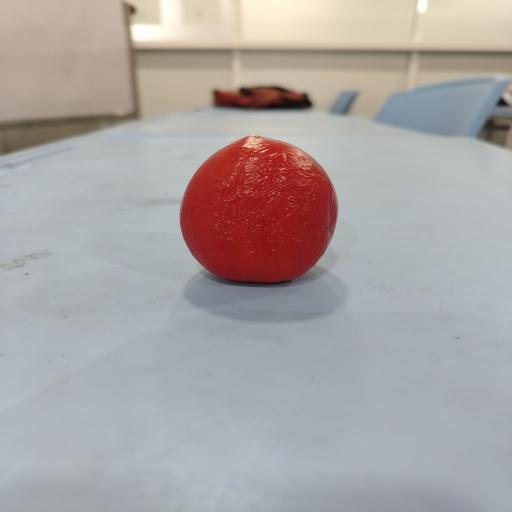spoiled: (180, 136, 337, 282)
